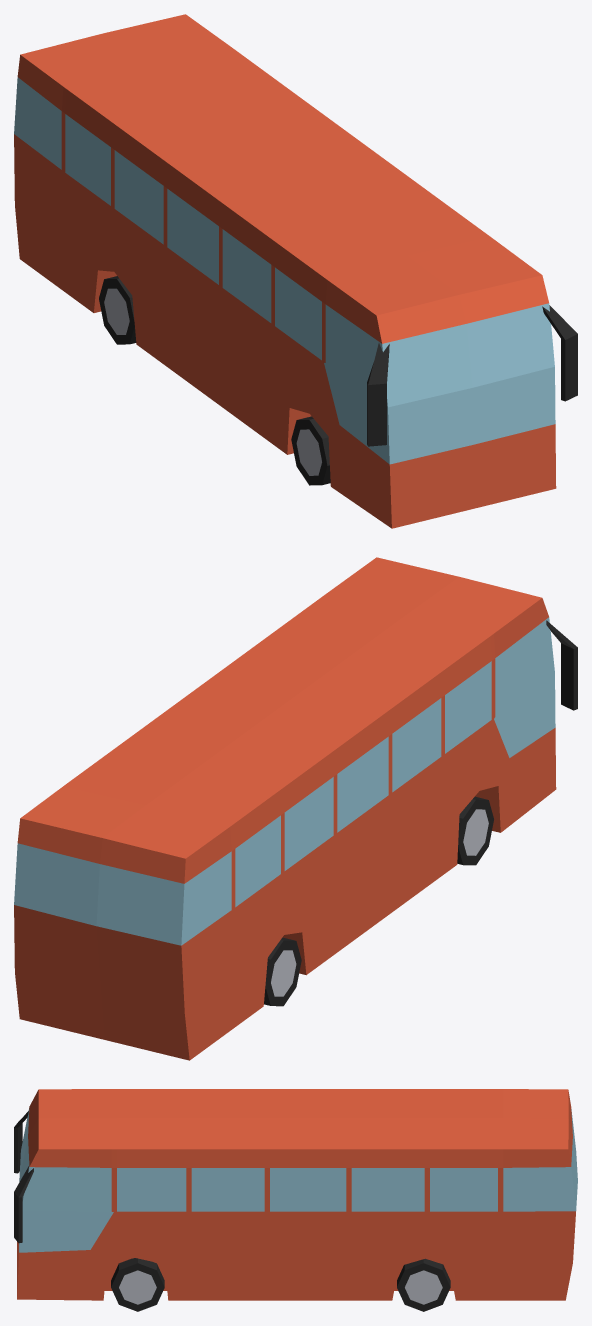
File: bus.glb
3 renders of one model, top to bottom at view 1: azimuth 30°, elevation 25°; view 2: azimuth 150°, elevation 25°; view 3: azimuth 270°, elevation 25°, orthographic. The views are drawn at different scales.
Parts seen in each view (by area): view 1: Bus; view 2: Bus; view 3: Bus.
Boxes of the visible parts, x1,y1,x2,y2 form: Bus: (14, 14, 577, 528); Bus: (14, 557, 577, 1060); Bus: (14, 1089, 577, 1311).
Bounding box in the file's own units: 5.11 × 5.12 × 16.01.
